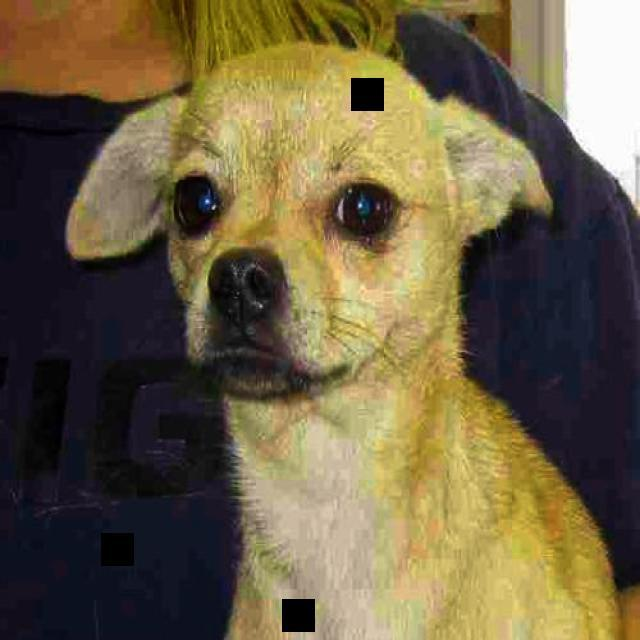adult_dog: (67, 43, 626, 640)
